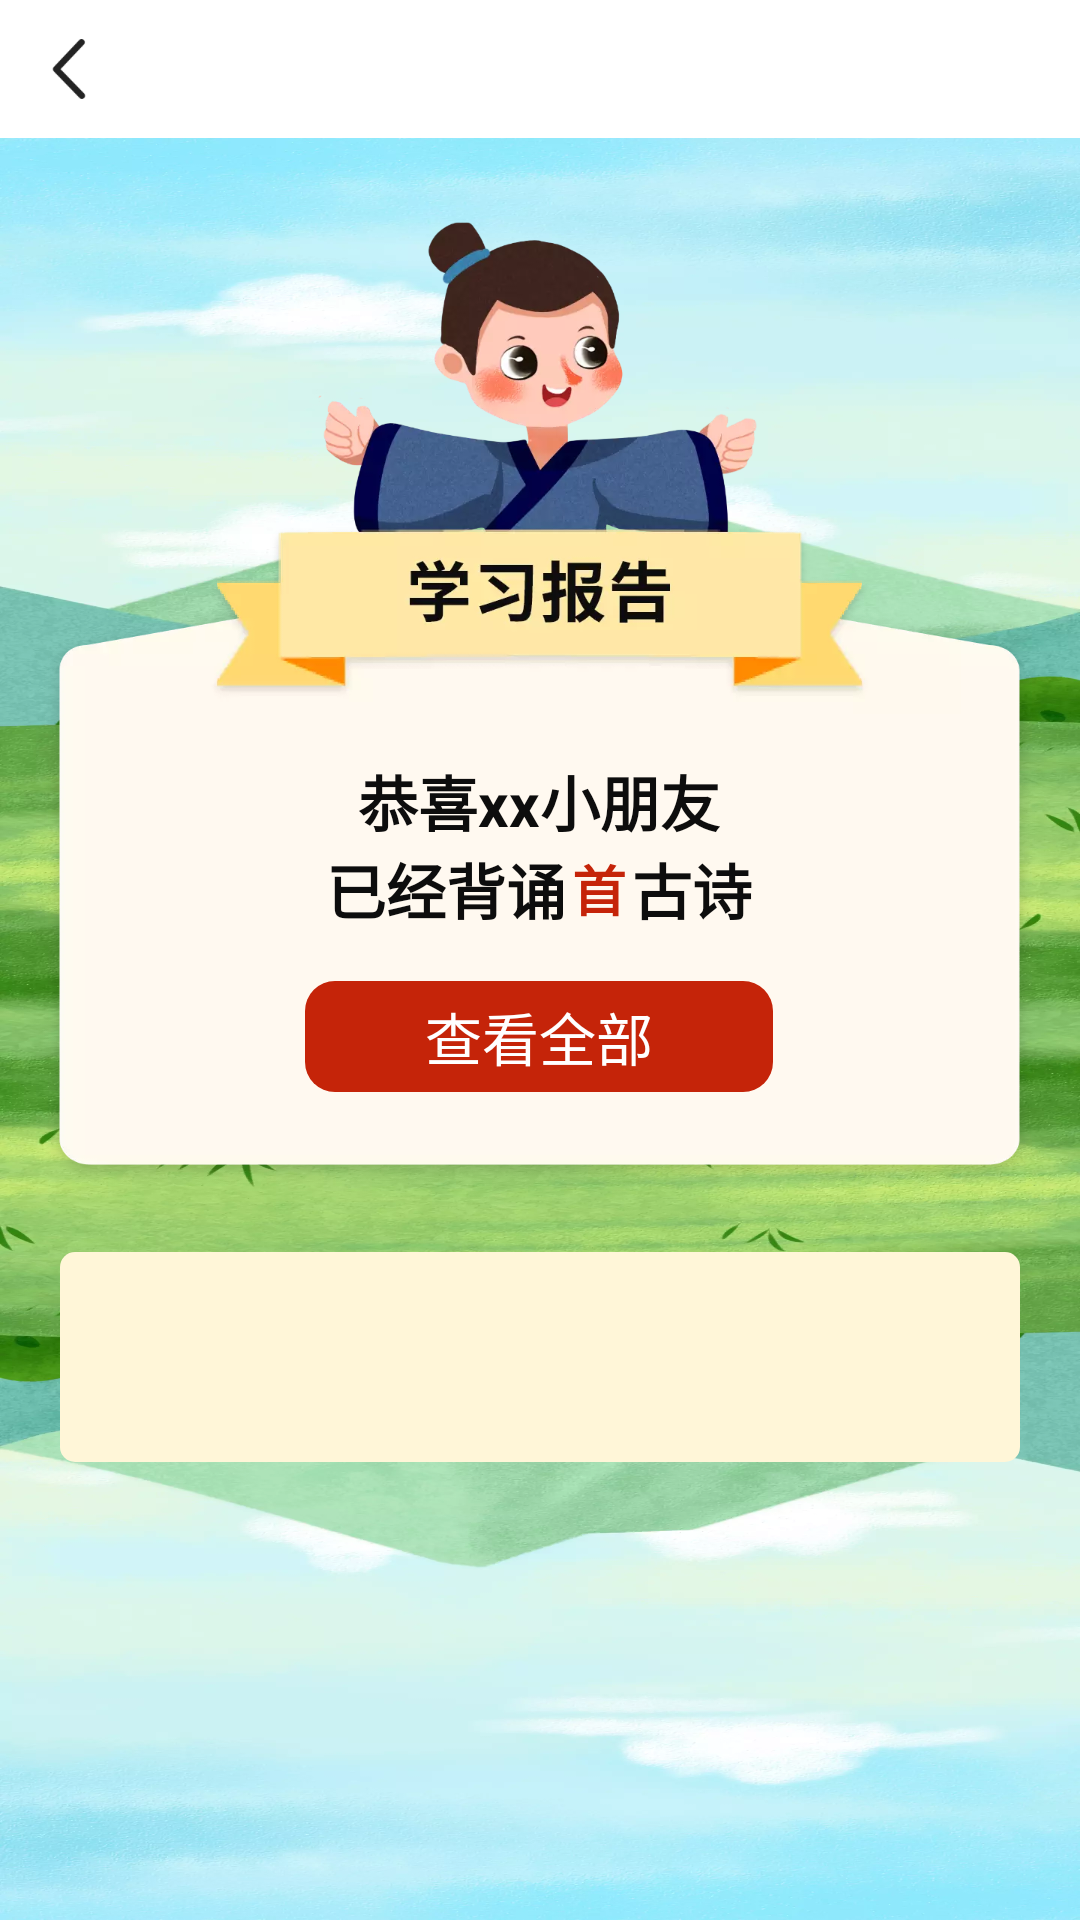

Where icons sit on this 1080px×1920px app screen, as (x1, y1, x2, y2):
arrow left: (52, 39, 86, 99)
